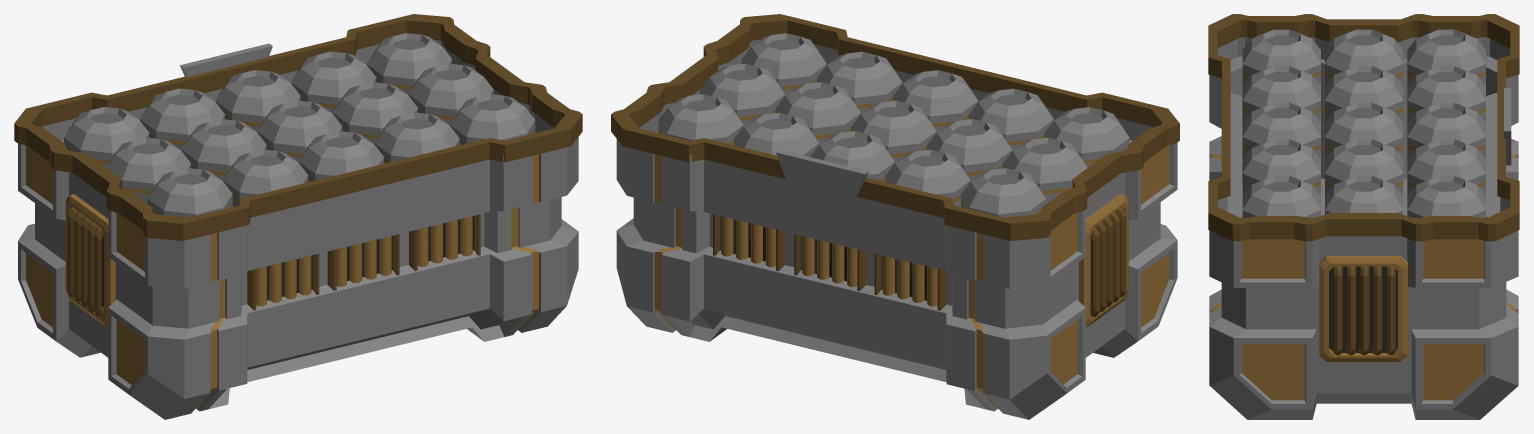
Rendered from container.glb.
The picture shows the model from 3 angles, left to right: view 1: azimuth 30°, elevation 25°; view 2: azimuth 150°, elevation 25°; view 3: azimuth 270°, elevation 25°; orthographic projection.
Visible parts, largest first — view 1: container; view 2: container; view 3: container.
Boxes of the visible parts, x1,y1,x2,y2 form: container: [14, 14, 582, 419]; container: [611, 14, 1179, 419]; container: [1208, 14, 1519, 419].
Bounding box in the file's own units: 1.4 × 0.6783 × 0.8755.
